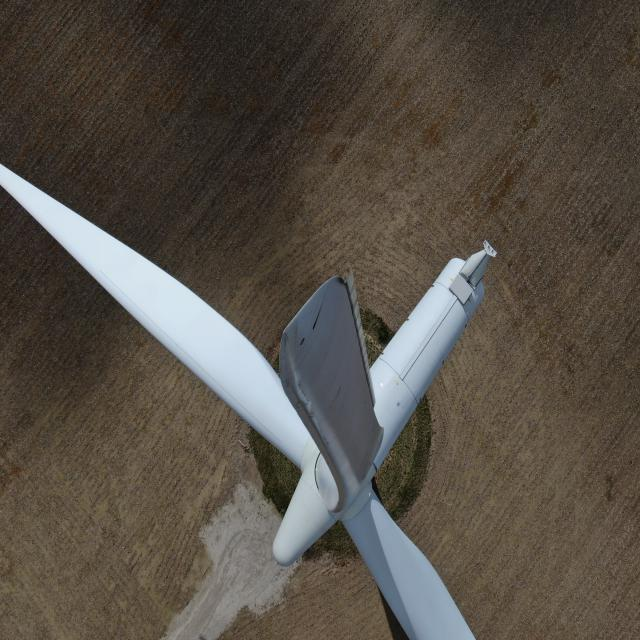damage: (312, 298, 328, 335)
